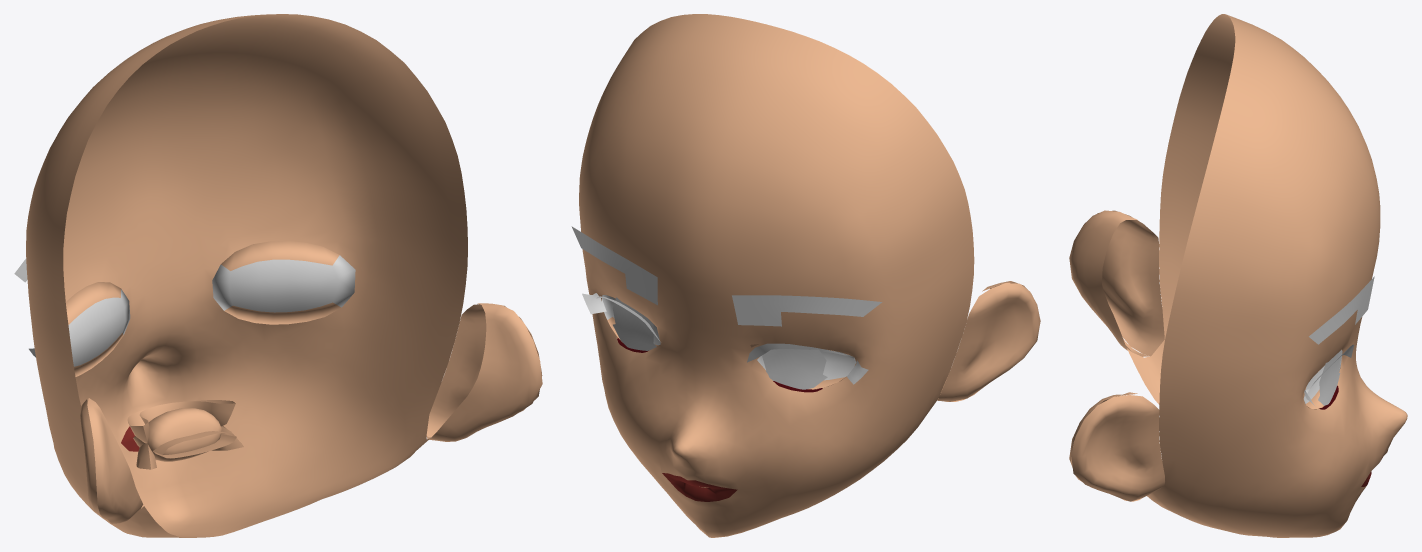
3 renders of one model, left to right at view 1: azimuth 30°, elevation 25°; view 2: azimuth 150°, elevation 25°; view 3: azimuth 270°, elevation 25°, orthographic. The views are drawn at different scales.
Visible parts, largest first — view 1: BasicA; view 2: BasicA, BrowA, Eye_ColorA, Eye_LinerA, Eye_DownA; view 3: BasicA, BrowA, Eye_ColorA.
Part boxes in pixels (x1,y1,x2,y2): BasicA: (26, 14, 542, 537); BasicA: (579, 14, 1040, 537); BrowA: (571, 226, 882, 326); Eye_ColorA: (612, 297, 827, 389); Eye_LinerA: (596, 296, 855, 362); Eye_DownA: (582, 293, 868, 384); BasicA: (1069, 14, 1407, 537); BrowA: (1309, 276, 1374, 344); Eye_ColorA: (1318, 350, 1342, 405).
Bounding box in the file's own units: 20.52 × 23.29 × 14.49.
